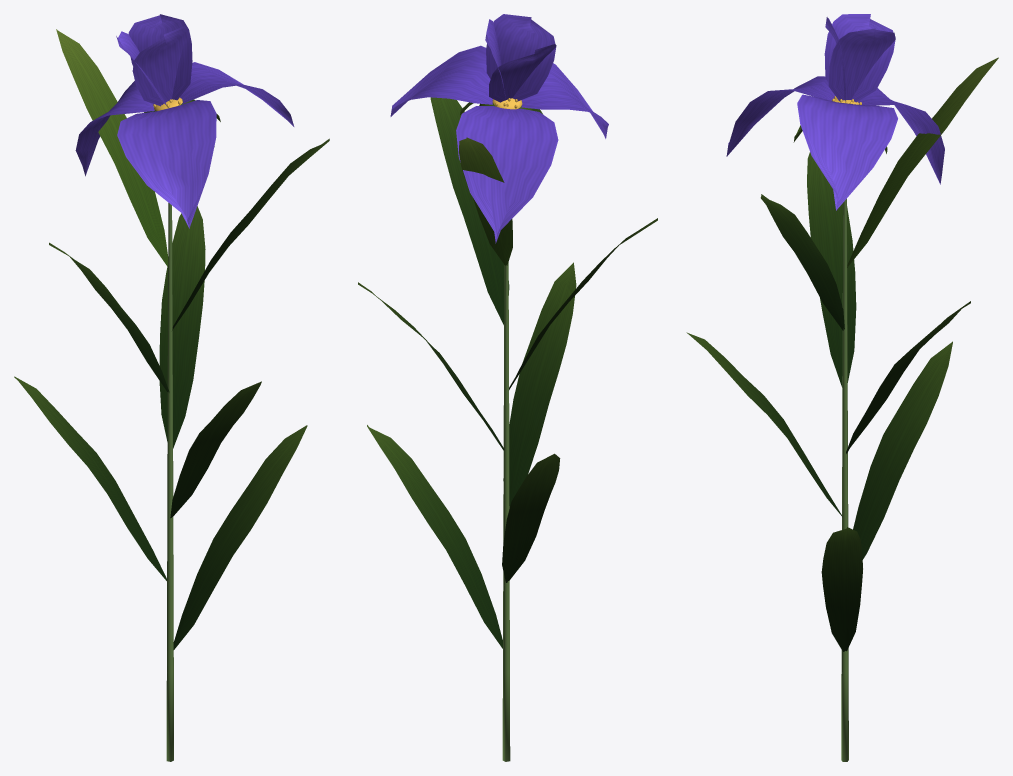
Rendered from iris-10-lod.glb.
The picture shows the model from 3 angles, left to right: view 1: azimuth 30°, elevation 25°; view 2: azimuth 150°, elevation 25°; view 3: azimuth 270°, elevation 25°; orthographic projection.
Visible parts, largest first — view 1: iris_stage_10_leaf_veins.019, iris_stage_10_iris_petal.019, iris_stage_10_young_leaf.019, iris_stage_10_stem_fibres.019; view 2: iris_stage_10_leaf_veins.019, iris_stage_10_iris_petal.019, iris_stage_10_stem_fibres.019, iris_stage_10_young_leaf.019; view 3: iris_stage_10_leaf_veins.019, iris_stage_10_iris_petal.019, iris_stage_10_young_leaf.019, iris_stage_10_stem_fibres.019.
Part boxes in pixels (left/top/right/bottom): iris_stage_10_leaf_veins.019: left=14, top=99, right=329, bottom=649; iris_stage_10_iris_petal.019: left=75, top=14, right=294, bottom=228; iris_stage_10_young_leaf.019: left=56, top=29, right=192, bottom=266; iris_stage_10_stem_fibres.019: left=166, top=203, right=173, bottom=761; iris_stage_10_leaf_veins.019: left=358, top=97, right=657, bottom=648; iris_stage_10_iris_petal.019: left=390, top=14, right=608, bottom=243; iris_stage_10_stem_fibres.019: left=502, top=262, right=510, bottom=761; iris_stage_10_young_leaf.019: left=459, top=100, right=532, bottom=265; iris_stage_10_leaf_veins.019: left=686, top=125, right=970, bottom=651; iris_stage_10_iris_petal.019: left=726, top=14, right=944, bottom=210; iris_stage_10_young_leaf.019: left=847, top=57, right=998, bottom=267; iris_stage_10_stem_fibres.019: left=841, top=199, right=848, bottom=761.
Size of the model in its own units: 0.3133 by 0.8048 by 0.3095.
Materials: 5 (3 with a texture image).
